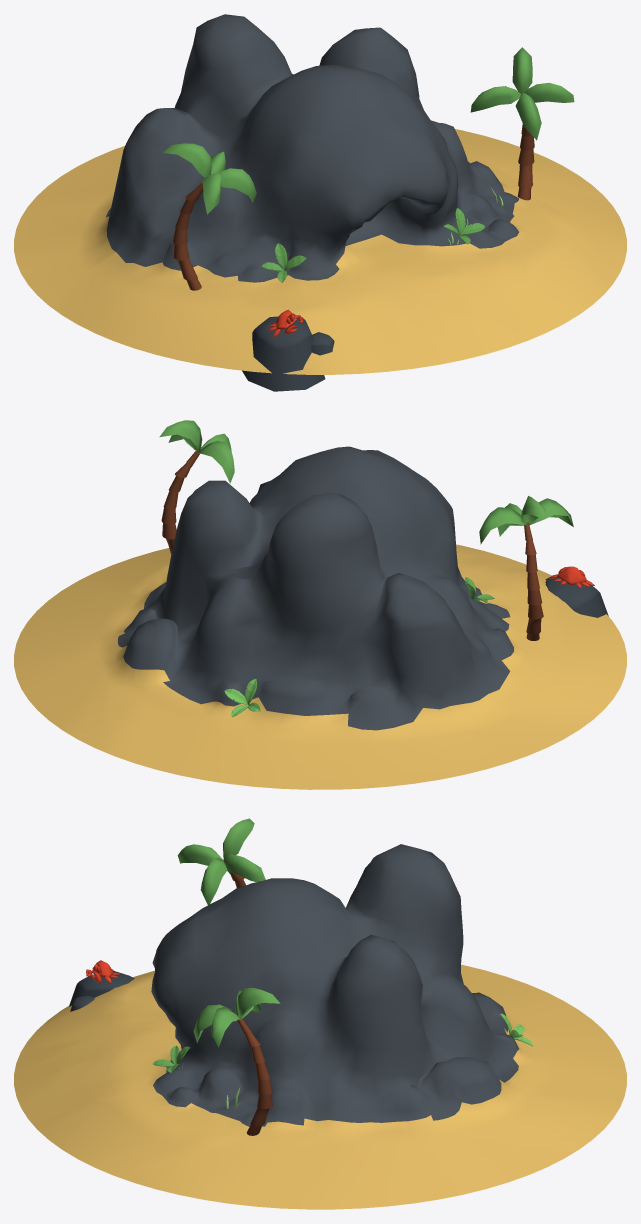
Rendered from Island.fbx.
The picture shows the model from 3 angles, top to bottom: view 1: azimuth 30°, elevation 25°; view 2: azimuth 150°, elevation 25°; view 3: azimuth 270°, elevation 25°; orthographic projection.
Visible parts, largest first — view 1: Island; view 2: Island; view 3: Island.
Boxes of the visible parts, <box> form: Island: <box>14,14,626,391</box>; Island: <box>14,420,626,789</box>; Island: <box>14,818,626,1209</box>.
Size of the model in its own units: 23.59 by 9.36 by 23.56.
